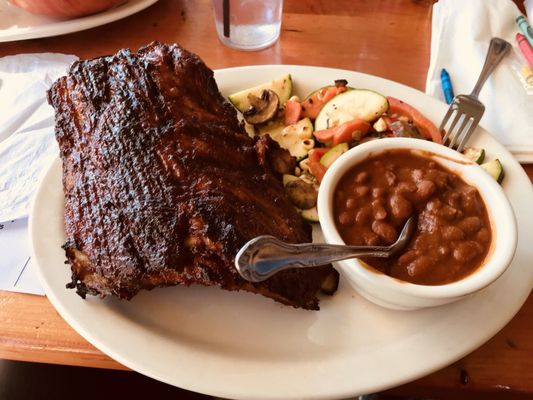pizza: (211, 0, 284, 51)
salad: (236, 213, 417, 276), (439, 37, 512, 152)
sushi: (315, 137, 519, 311)
